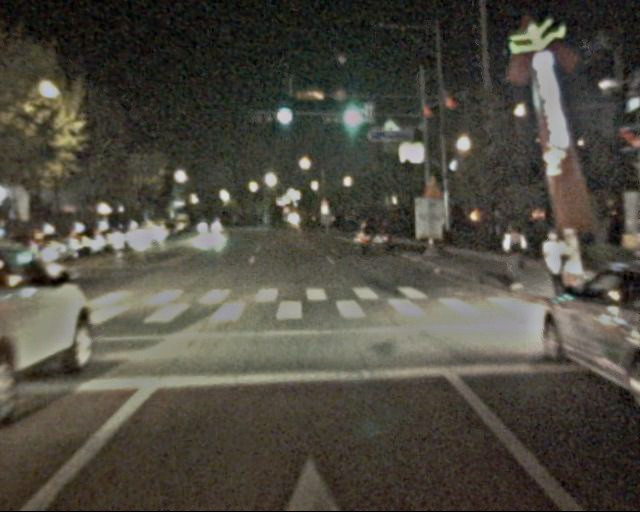person: (497, 218, 530, 298), (553, 220, 583, 300), (541, 229, 569, 306)
